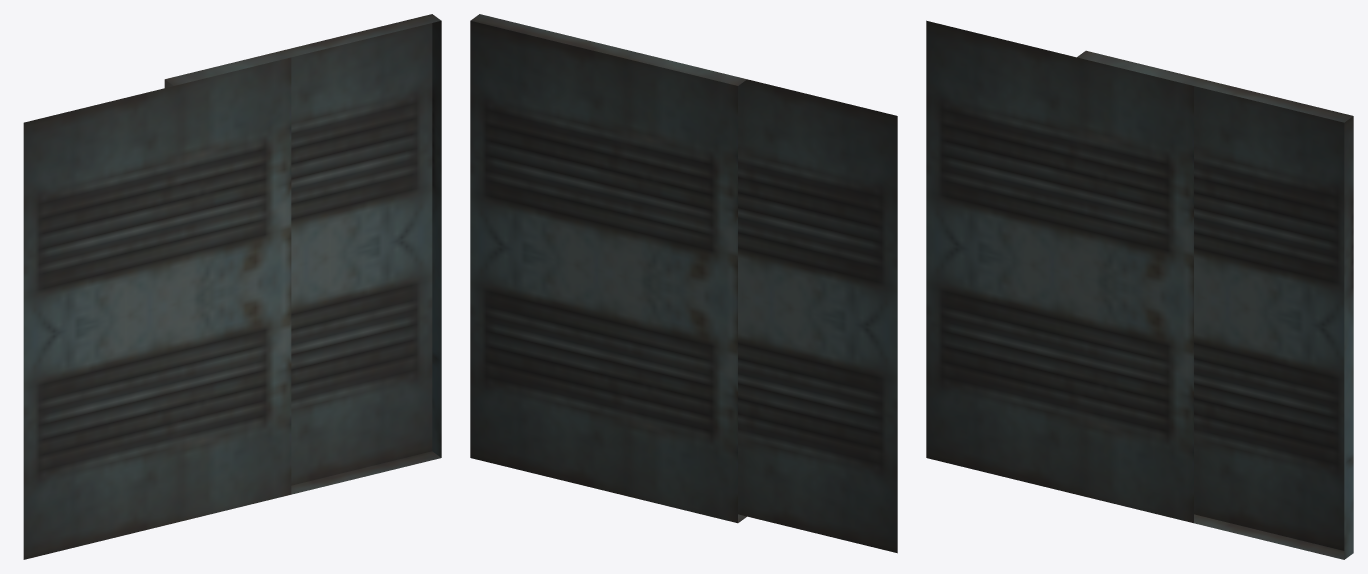
The model's file is industrial_stylea_wall001.glb.
3 renders of one model, left to right at view 1: azimuth 30°, elevation 25°; view 2: azimuth 150°, elevation 25°; view 3: azimuth 330°, elevation 25°, orthographic.
Visible parts, largest first — view 1: Industrial_StyleA_Wall001; view 2: Industrial_StyleA_Wall001; view 3: Industrial_StyleA_Wall001.
Boxes of the visible parts, bbox=[...] form: Industrial_StyleA_Wall001: bbox=[23, 14, 441, 559]; Industrial_StyleA_Wall001: bbox=[470, 14, 897, 553]; Industrial_StyleA_Wall001: bbox=[926, 20, 1353, 559].
Bounding box in the file's own units: 4 × 4 × 0.1524.
1 material, 1 textured.
